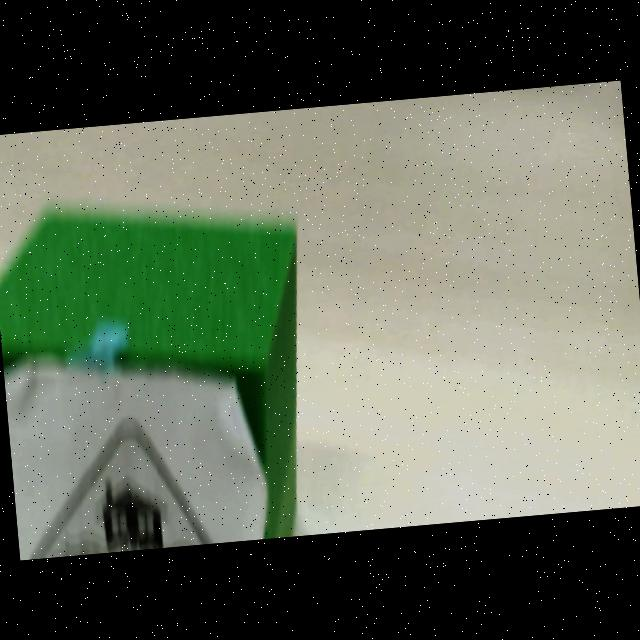Tsunami: (31, 418, 212, 559)
